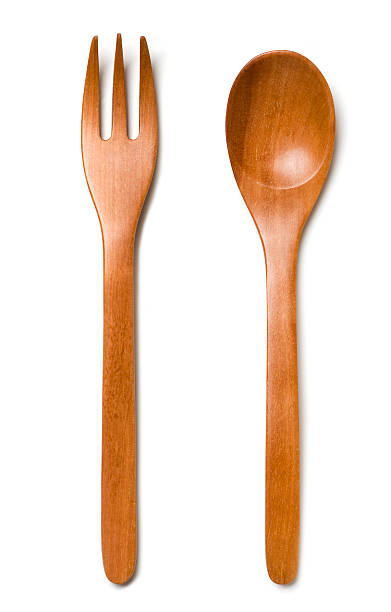Wooden Utensils: (76, 27, 326, 594)
